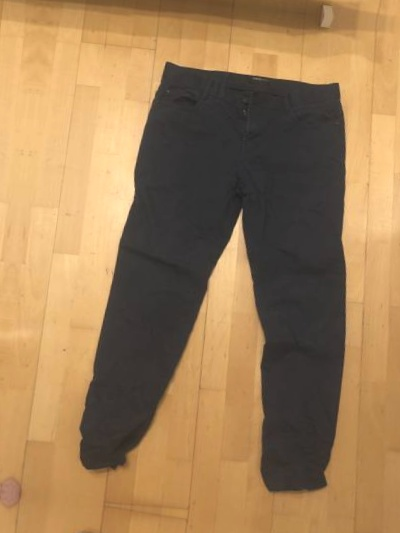Pants: (55, 26, 400, 506), (0, 528, 352, 533)
